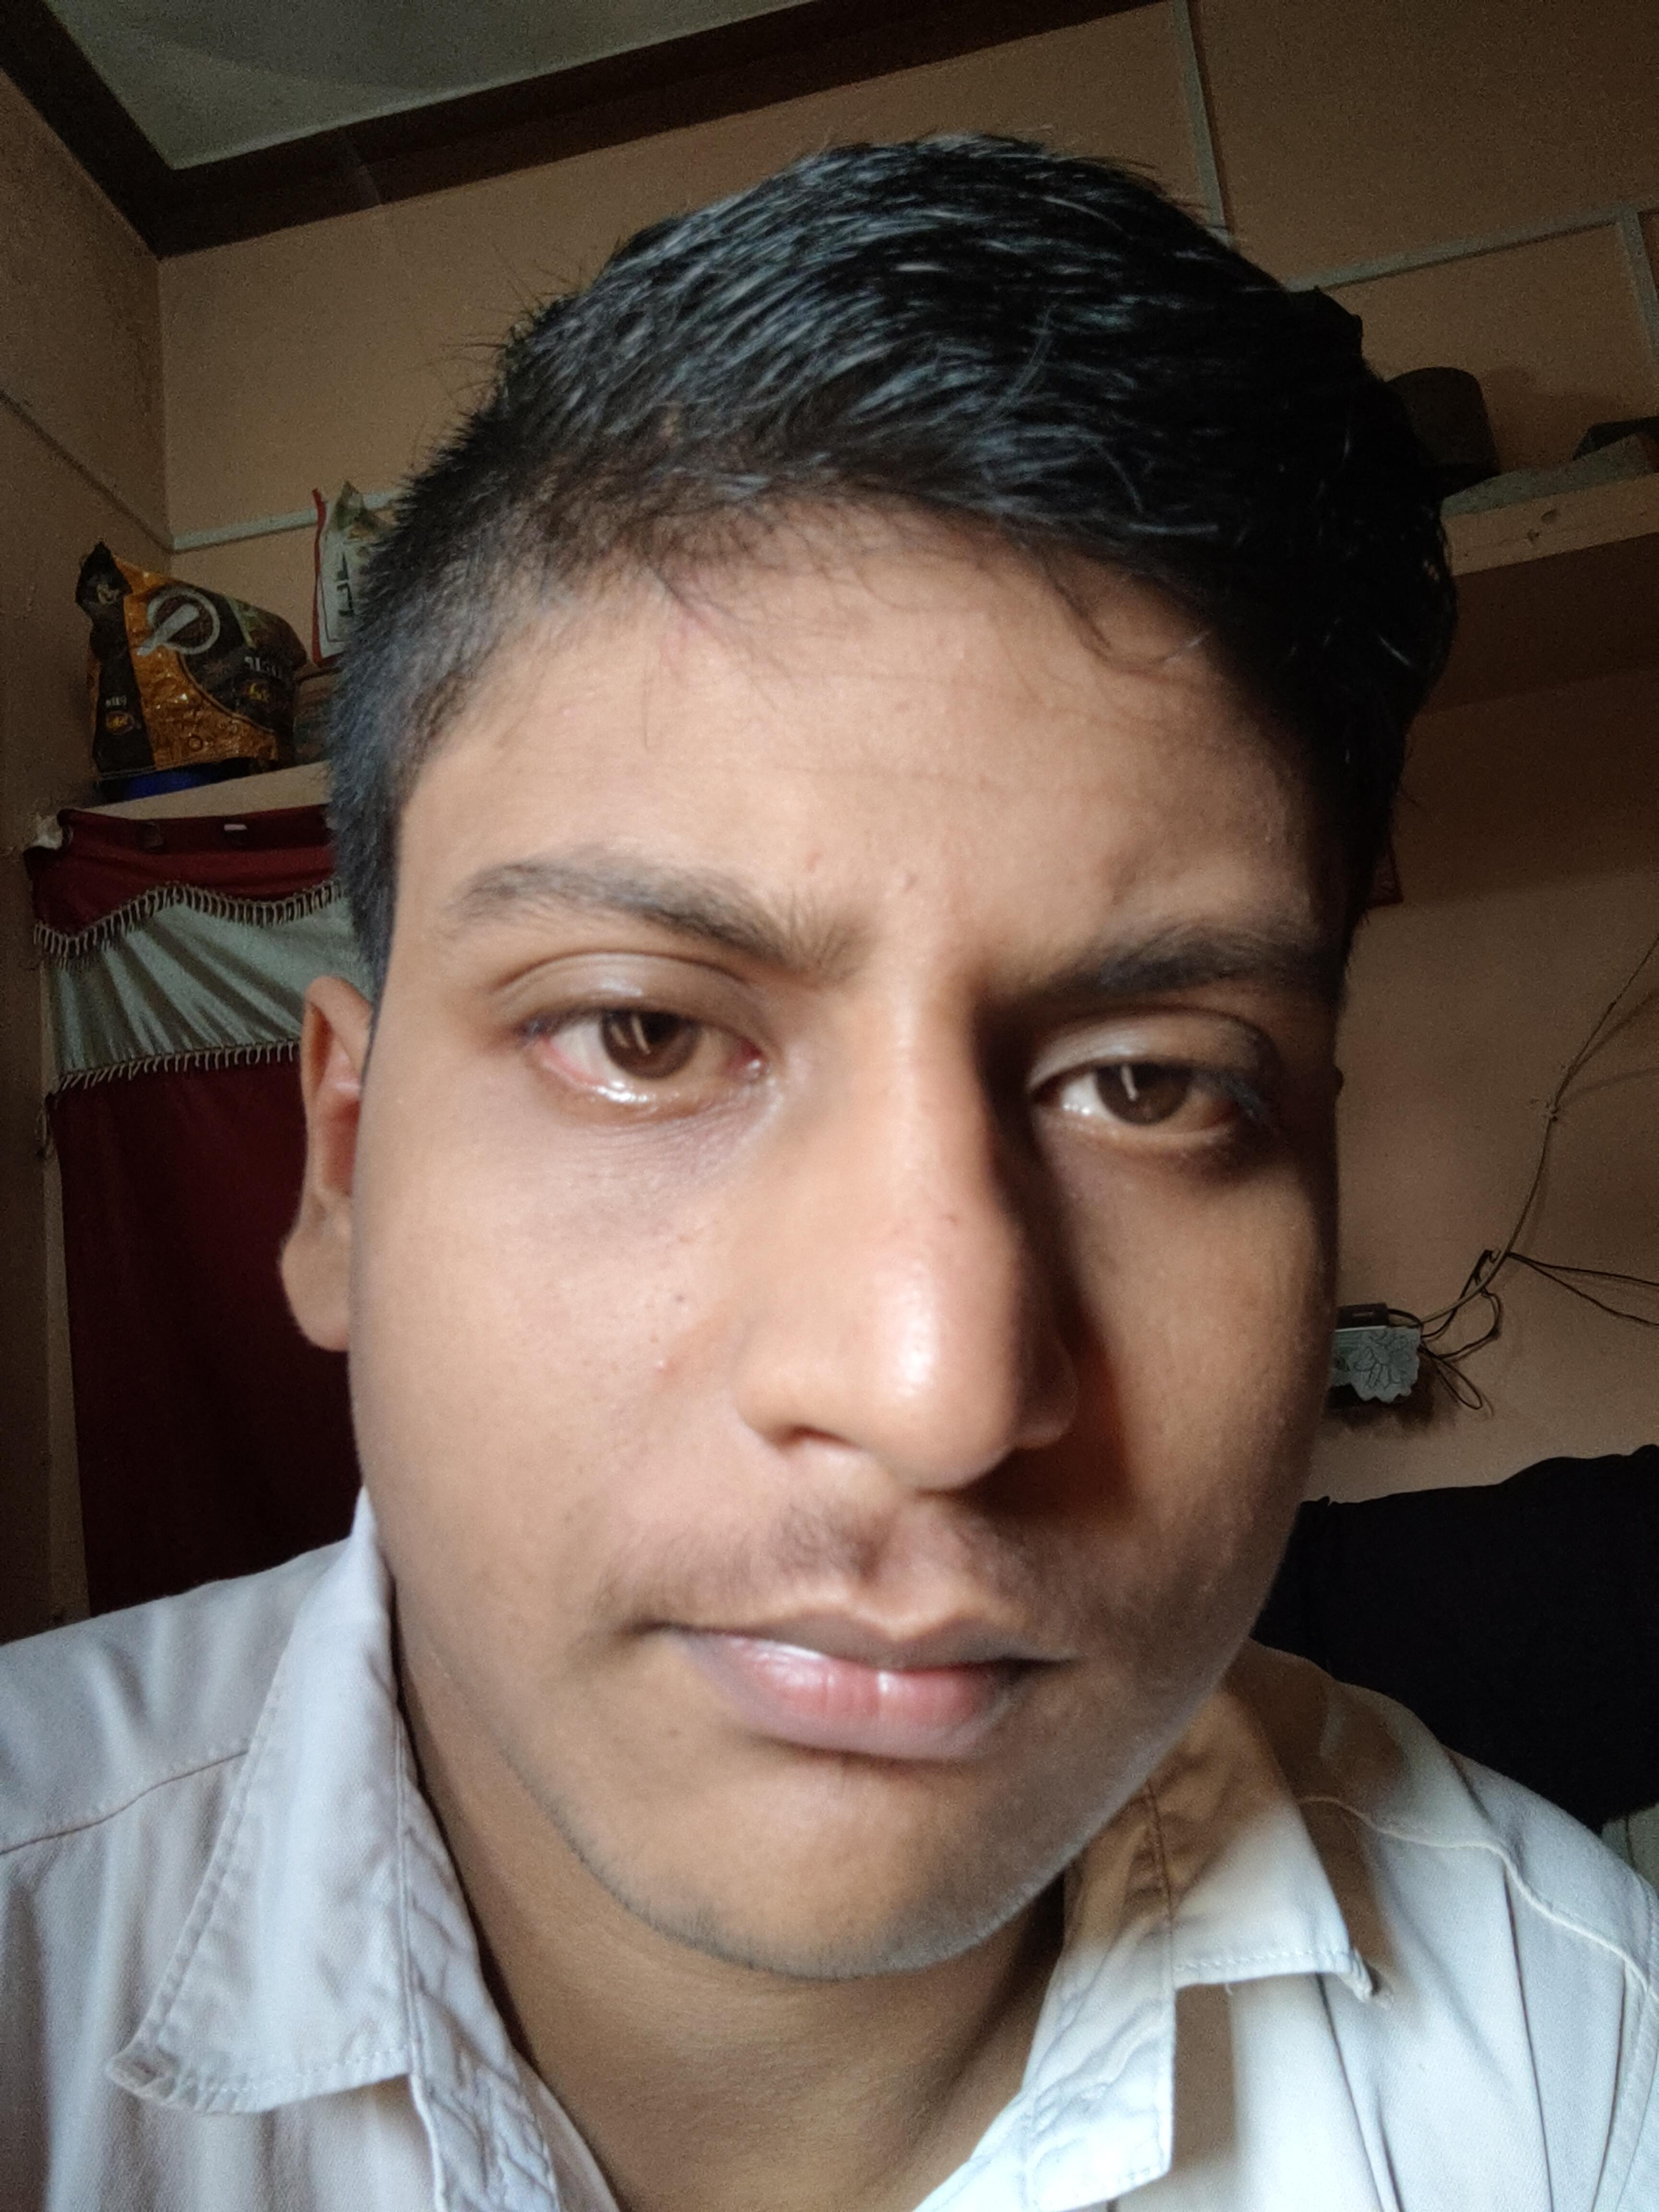Acne: (884, 862, 939, 909), (648, 1313, 687, 1378)
Wrinkles: (676, 747, 1089, 812), (732, 651, 1082, 716)
